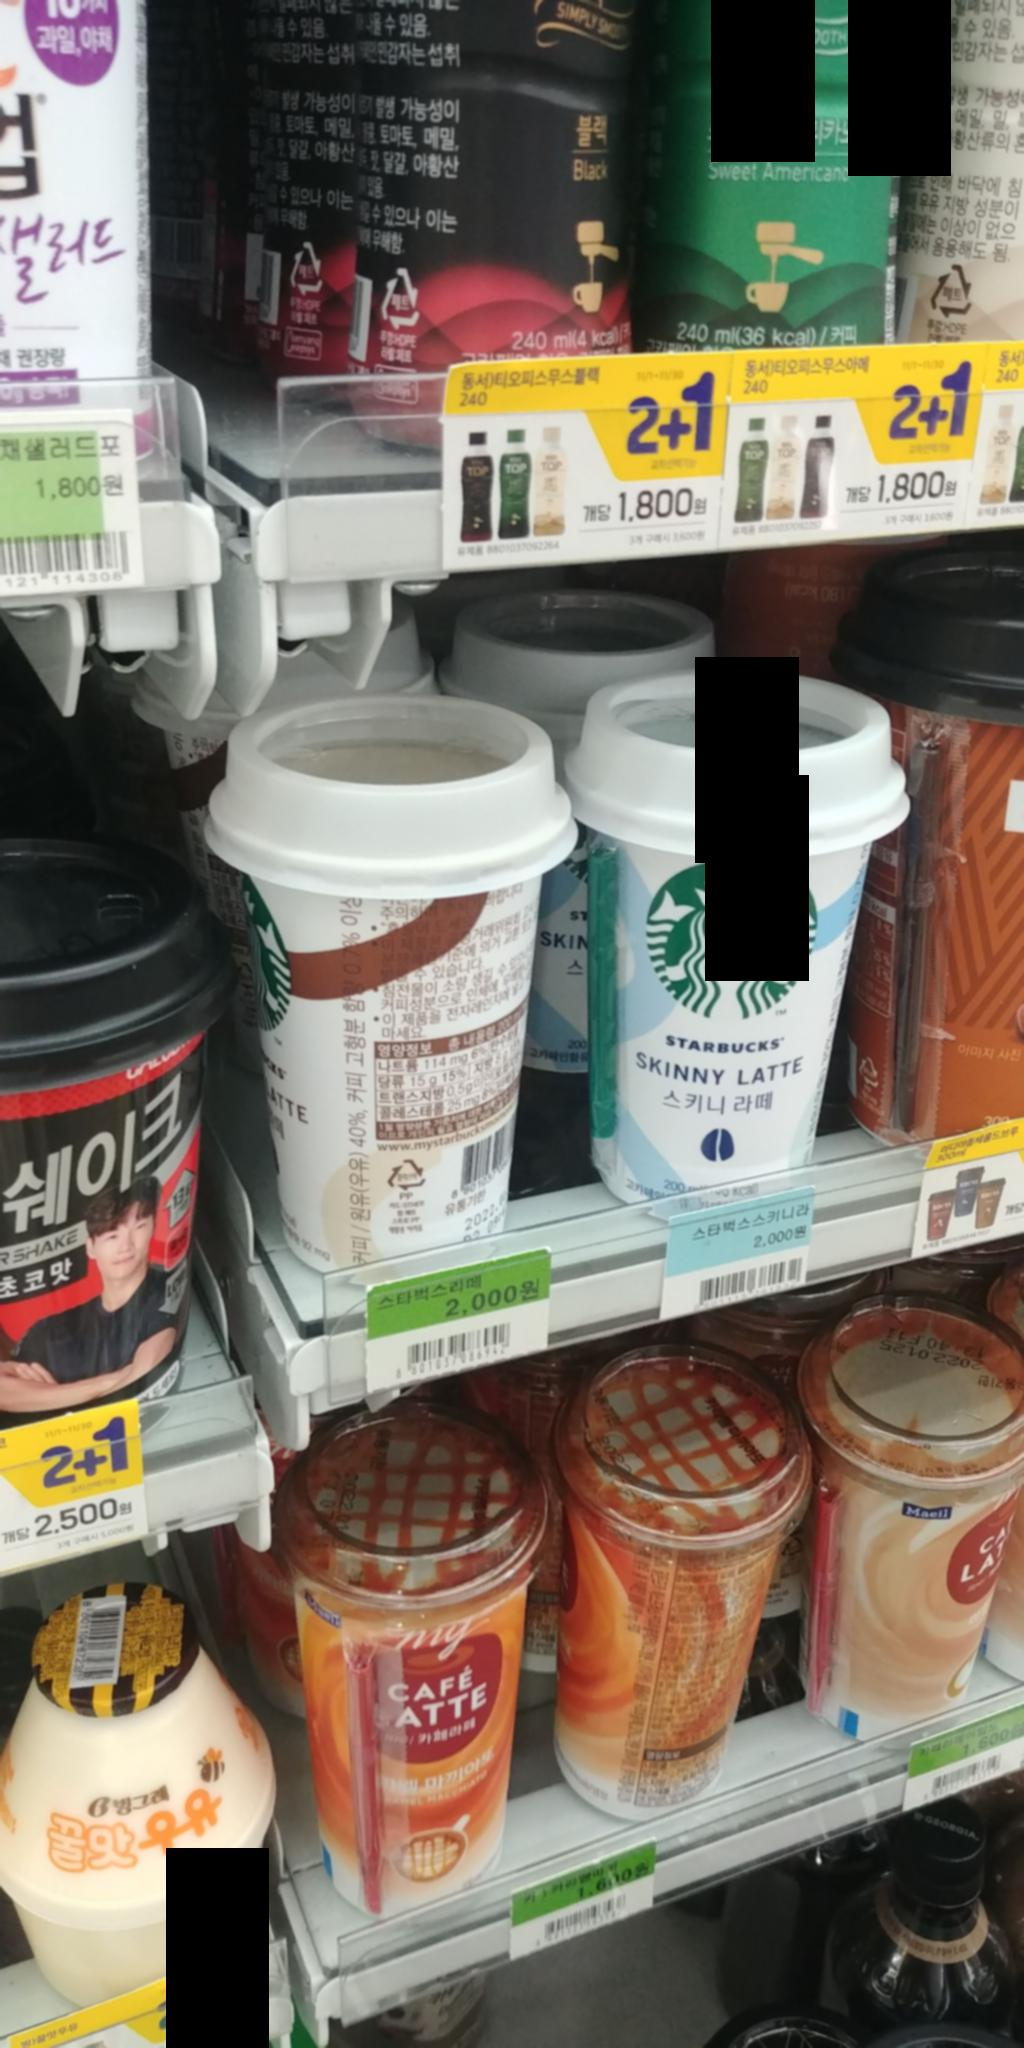starbucks_cafelatte: (185, 682, 579, 1284)
